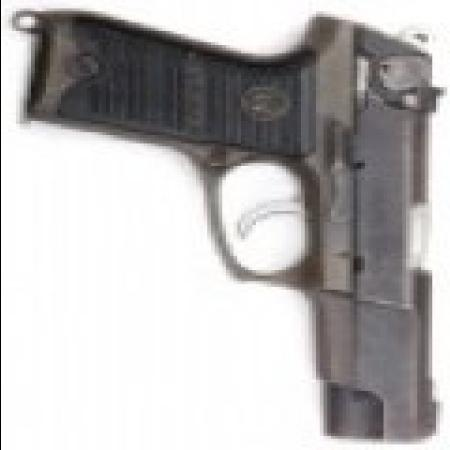Pistol: (30, 20, 446, 444)
